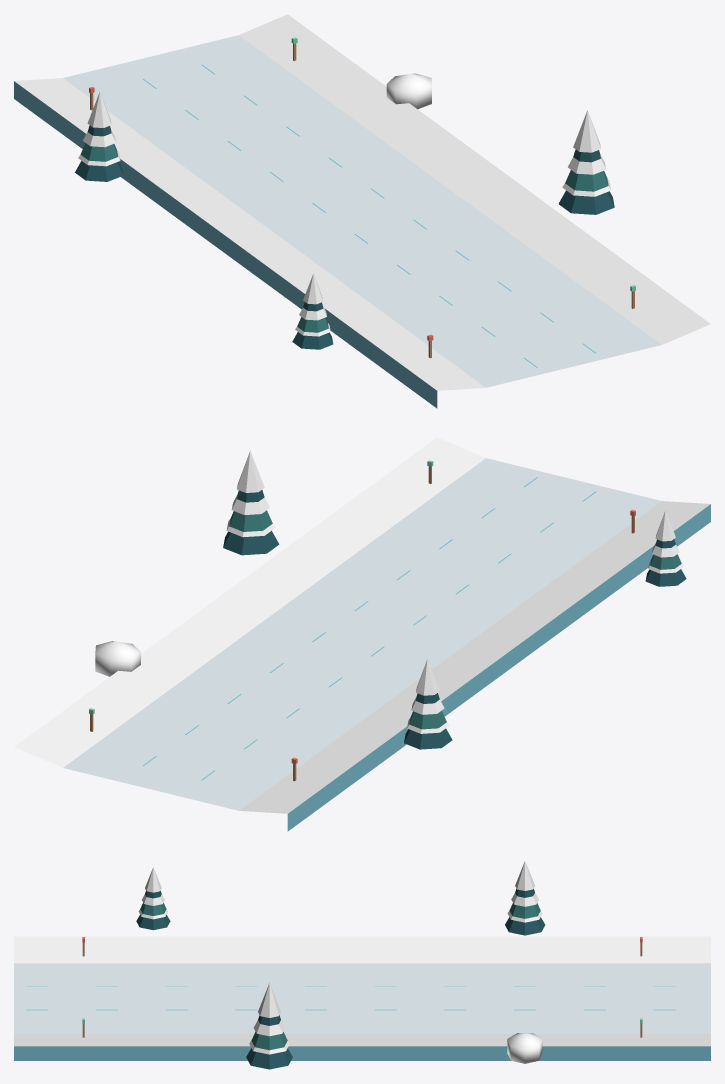
The model's file is straight.glb.
3 renders of one model, top to bottom at view 1: azimuth 30°, elevation 25°; view 2: azimuth 150°, elevation 25°; view 3: azimuth 270°, elevation 25°, orthographic. The views are drawn at different scales.
Visible parts, largest first — view 1: Tile_straight; view 2: Tile_straight; view 3: Tile_straight.
Boxes of the visible parts, bbox=[...] form: Tile_straight: bbox=[14, 14, 710, 408]; Tile_straight: bbox=[14, 437, 710, 831]; Tile_straight: bbox=[14, 861, 710, 1069].
Size of the model in its own units: 15.82 by 4.33 by 30.
